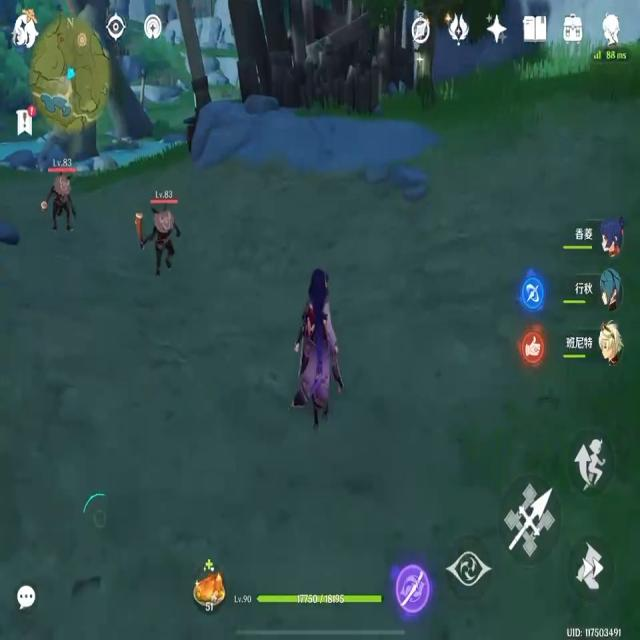genshin-hilichurls: (138, 198, 182, 269), (49, 172, 80, 230)
